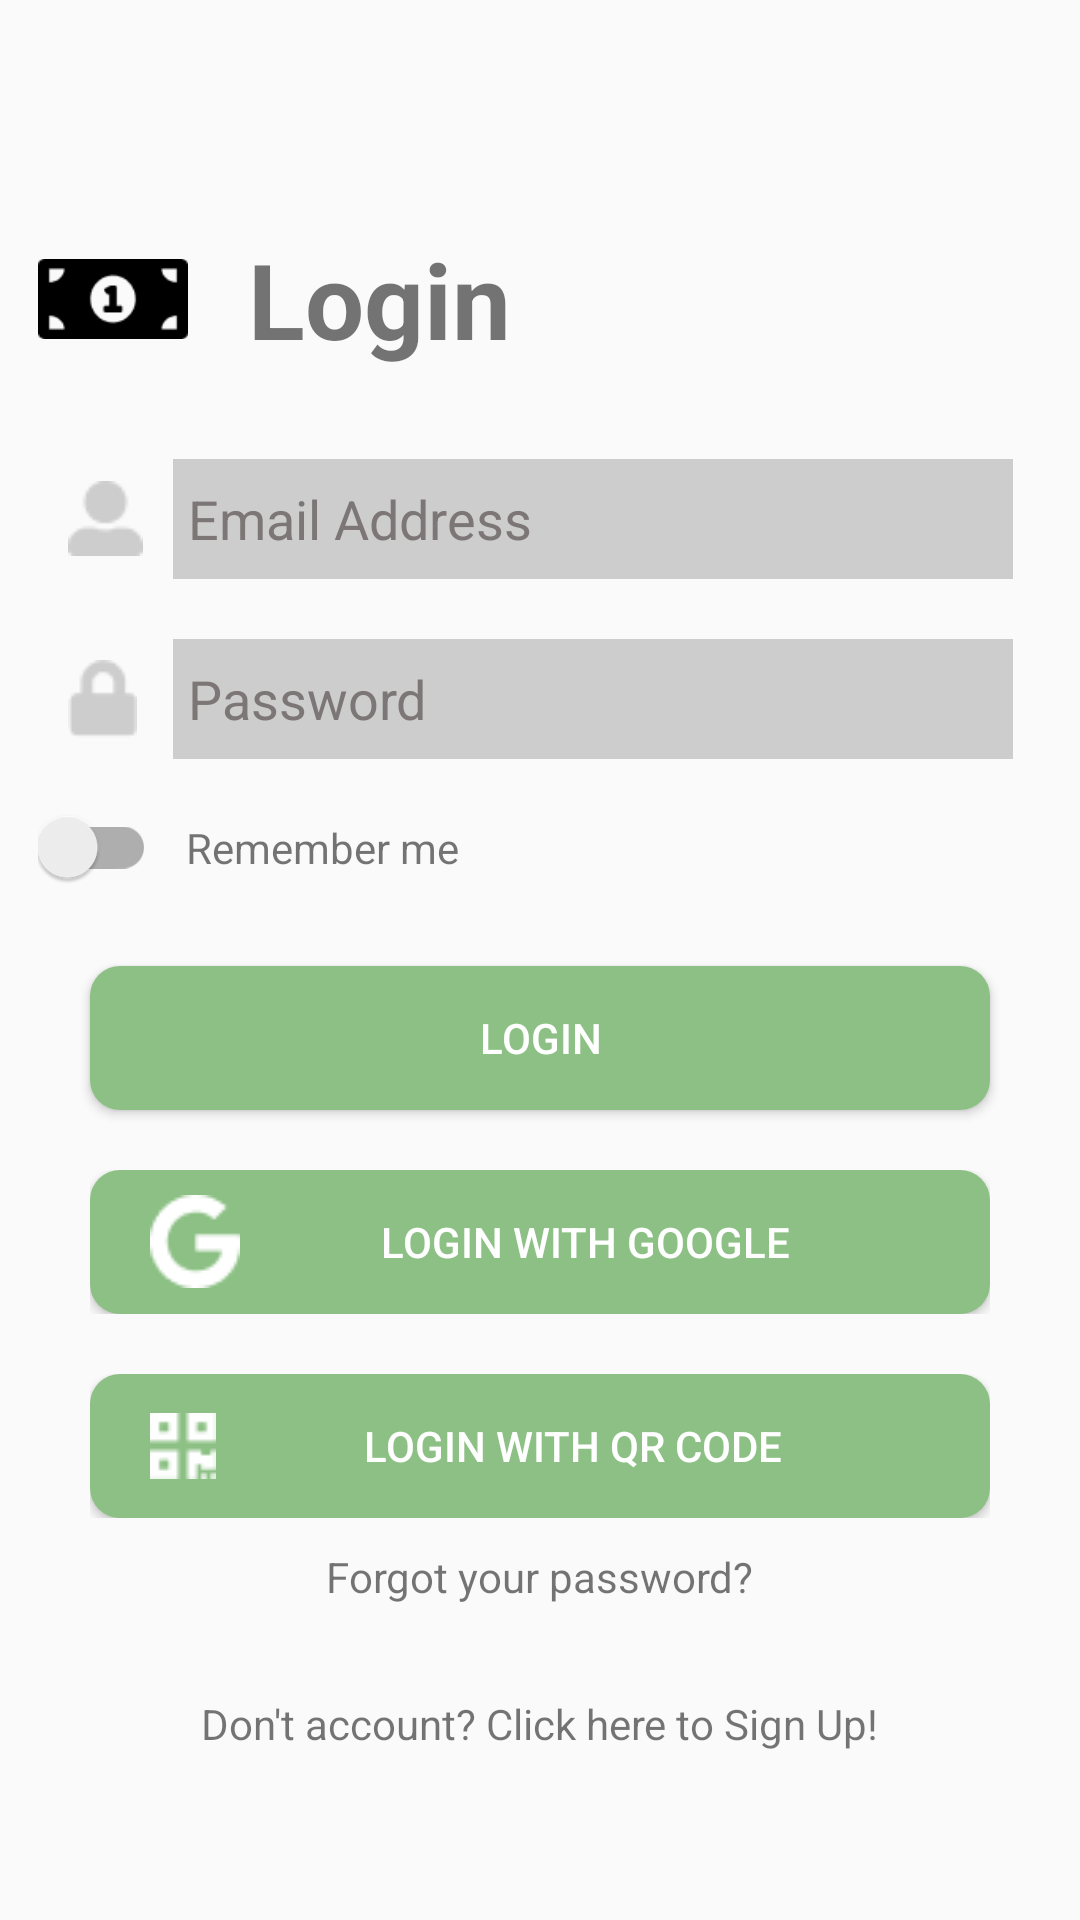

Locate icon controls on the screen. Image size 1080 × 1920, boxes as (x1, y1, x2, y2).
money: (38, 259, 188, 339)
